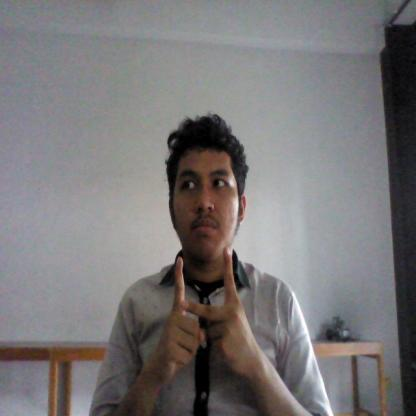H: (156, 246, 250, 388)
